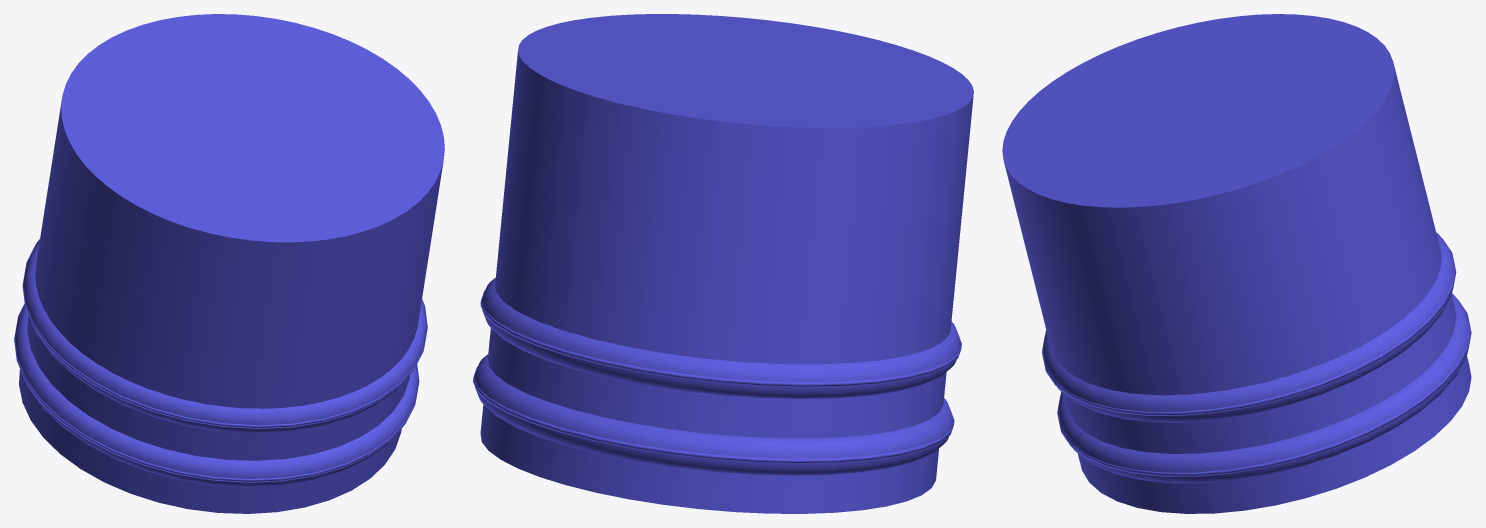
Rendered from bombilla228.obj.
3 views of the same model, side by side, from view 1: azimuth 30°, elevation 25°; view 2: azimuth 150°, elevation 25°; view 3: azimuth 270°, elevation 25° (orthographic). The views are drawn at different scales.
Parts seen in each view (by area): view 1: Cylinder001, Cylinder004, Cylinder002, Cylinder003, Cylinder006; view 2: Cylinder001, Cylinder003, Cylinder004, Cylinder006, Cylinder002; view 3: Cylinder001, Cylinder004, Cylinder003, Cylinder002, Cylinder006.
Boxes of the visible parts, box(x1,y1,x2,y2) form: Cylinder001: box(35, 14, 444, 408); Cylinder004: box(14, 303, 419, 487); Cylinder002: box(22, 239, 427, 433); Cylinder003: box(27, 315, 409, 460); Cylinder006: box(19, 369, 401, 513); Cylinder001: box(495, 14, 973, 364); Cylinder003: box(488, 328, 946, 438); Cylinder004: box(473, 354, 954, 475); Cylinder006: box(480, 404, 938, 513); Cylinder002: box(480, 278, 961, 398); Cylinder001: box(1002, 14, 1441, 395); Cylinder004: box(1057, 293, 1471, 483); Cylinder003: box(1062, 295, 1456, 453); Cylinder002: box(1042, 232, 1456, 422); Cylinder006: box(1077, 356, 1471, 513).
Bounding box in the file's own units: 72.45 × 73.22 × 79.93.
